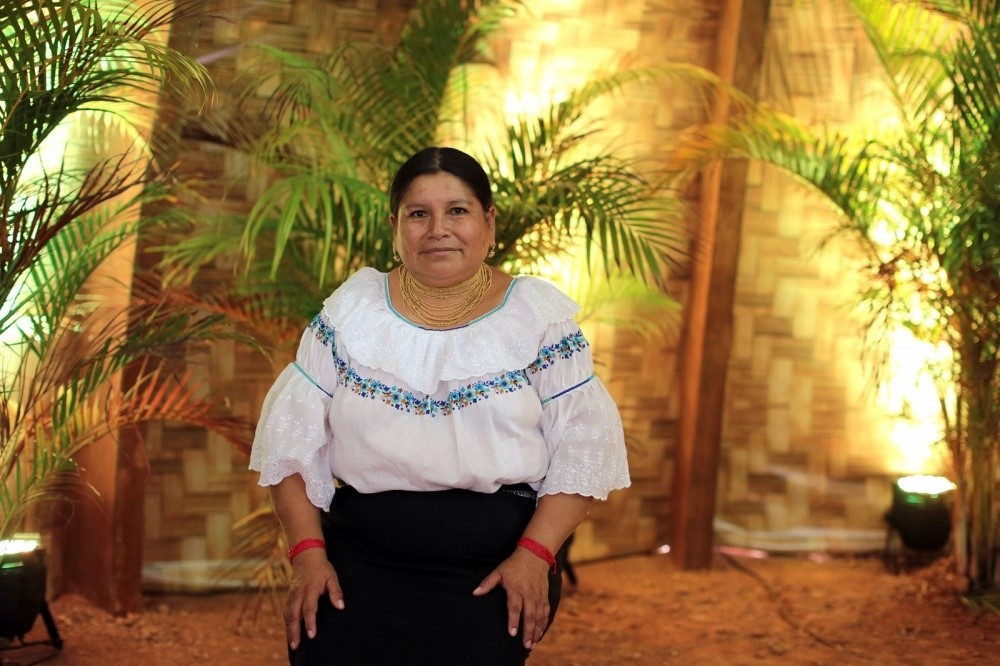face_no_mask: (388, 147, 499, 286)
